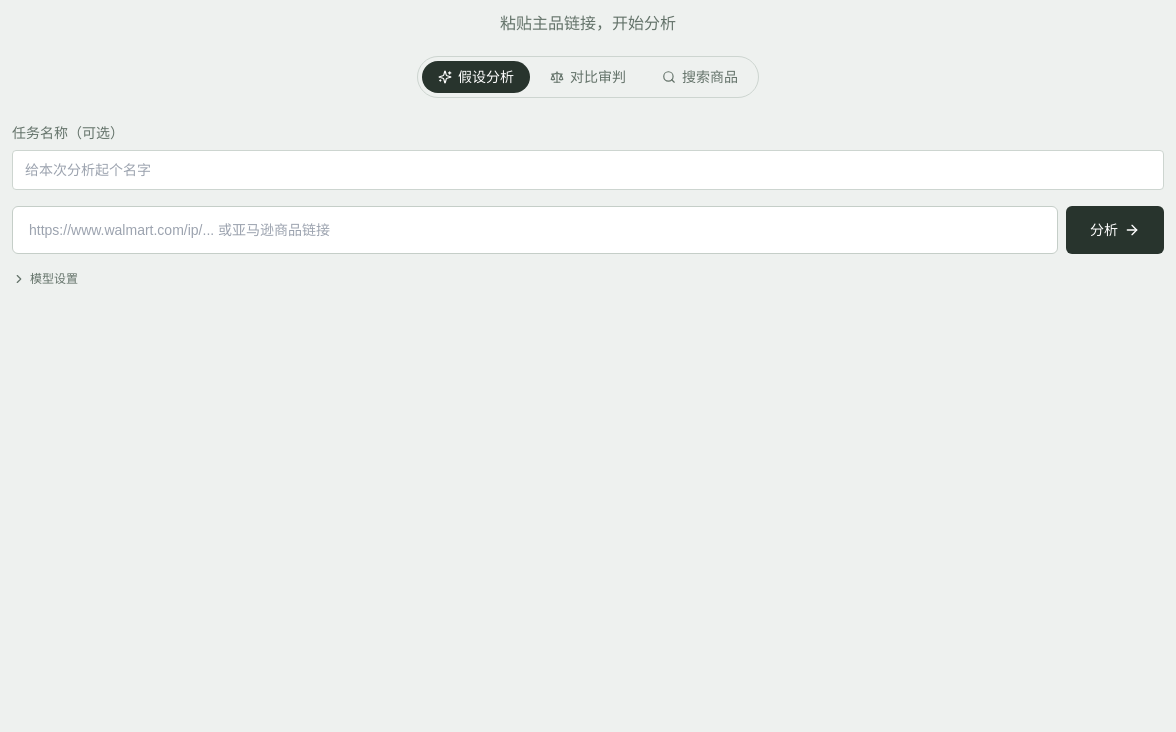
Test: allows adding B URLs via the add button
Click the tab "对比审判".
click(588, 77)  # box [534,61,642,93]
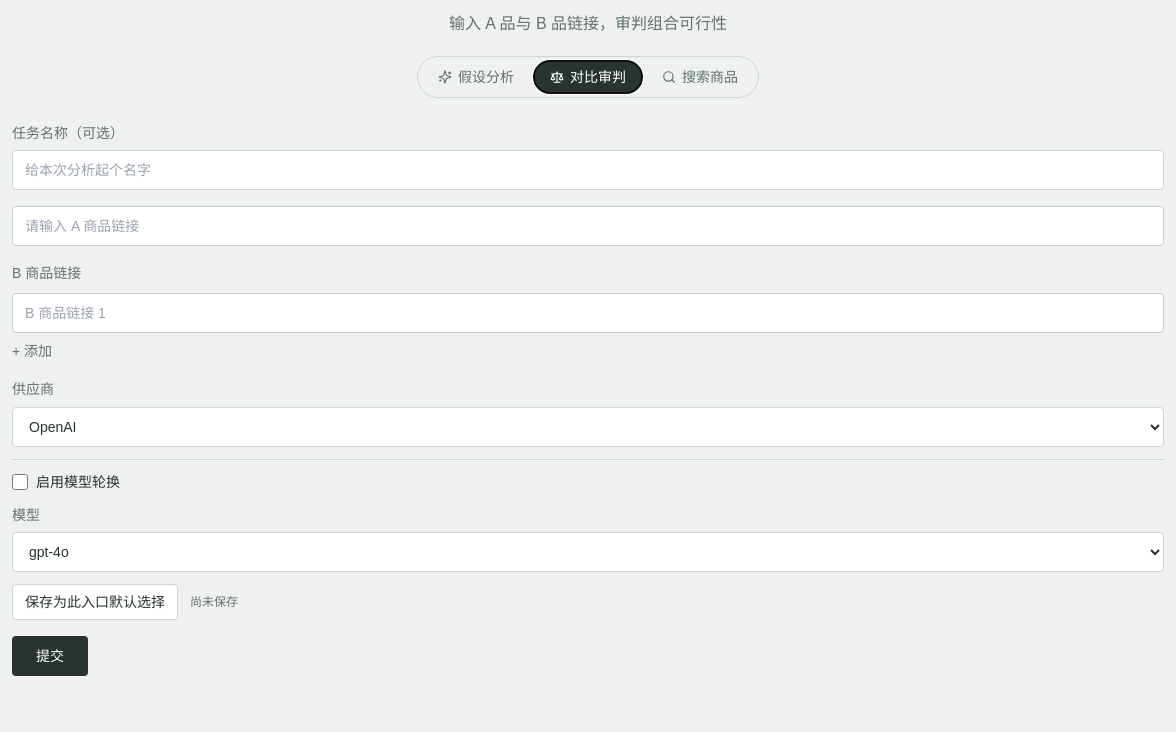
Click the button "+ 添加".
click(32, 351)  # box [12,341,52,361]
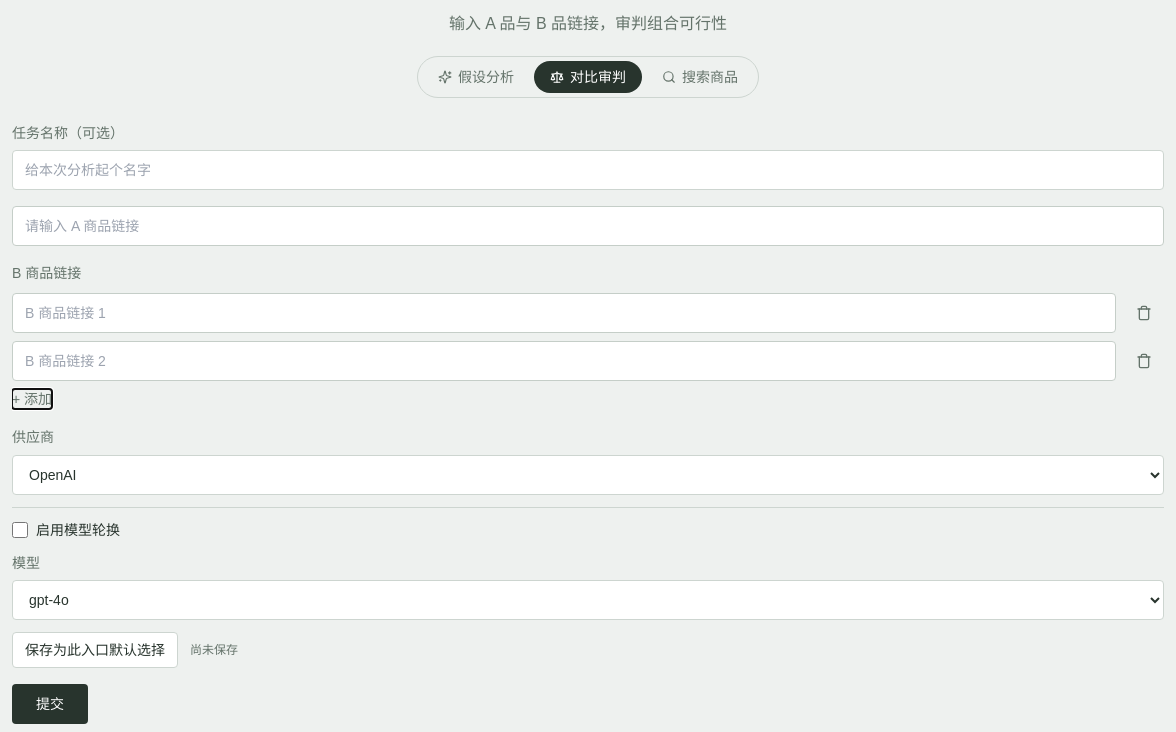
Now the field with placeholder "B 商品链接 2" is shown, box [12,341,1116,381]
